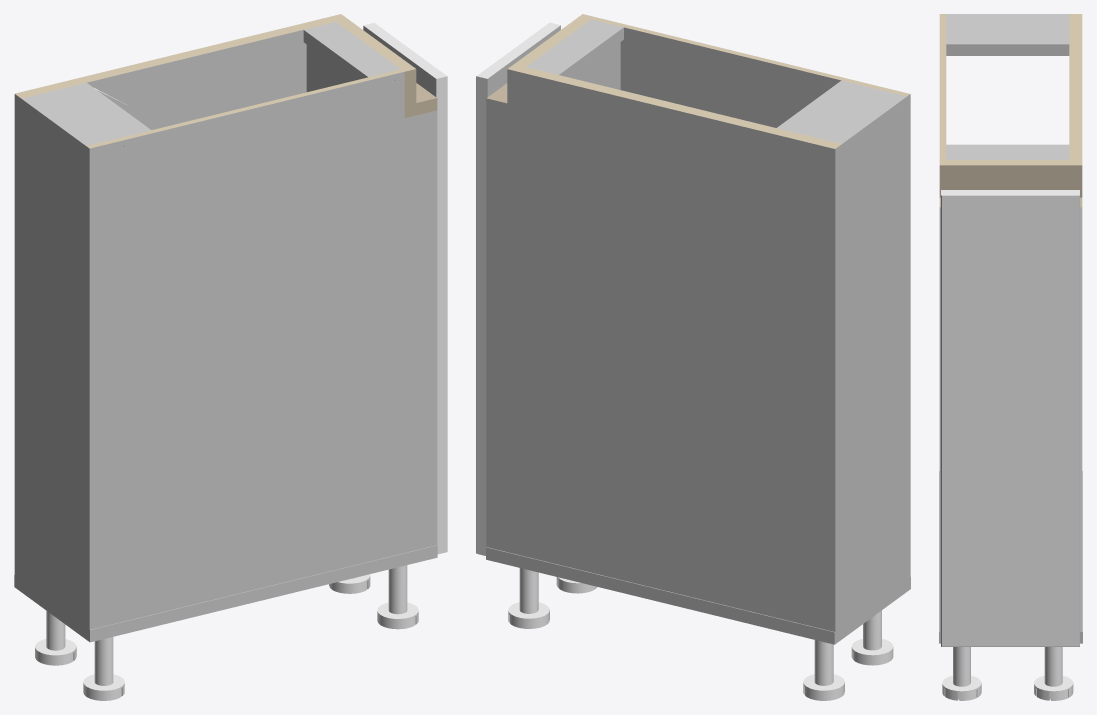
File: za_flase_20cm_2.glb
The picture shows the model from 3 angles, left to right: view 1: azimuth 30°, elevation 25°; view 2: azimuth 150°, elevation 25°; view 3: azimuth 270°, elevation 25°; orthographic projection. The views are drawn at different scales.
Parts seen in each view (by area): view 1: Group1; view 2: Group1; view 3: Group1.
Part boxes in pixels (bbox=[...]): Group1: bbox=[14, 14, 447, 700]; Group1: bbox=[476, 14, 910, 700]; Group1: bbox=[939, 14, 1082, 700].
Bounding box in the file's own units: 550 × 817 × 201.
